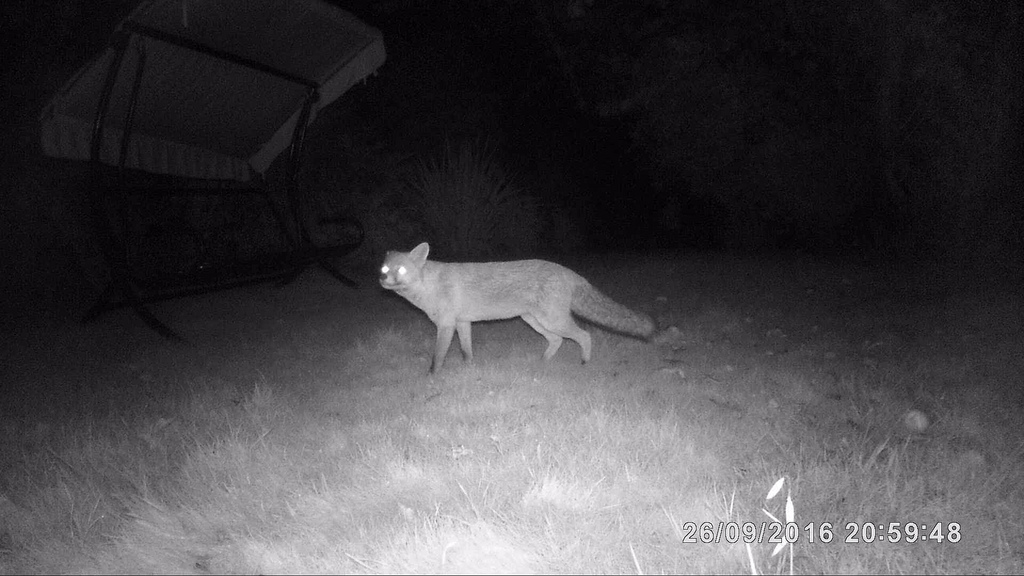fox: (353, 218, 680, 381)
